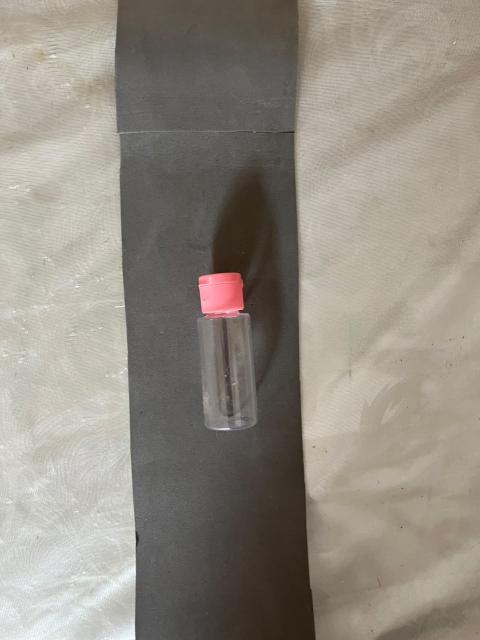PET: (128, 210, 331, 526)
